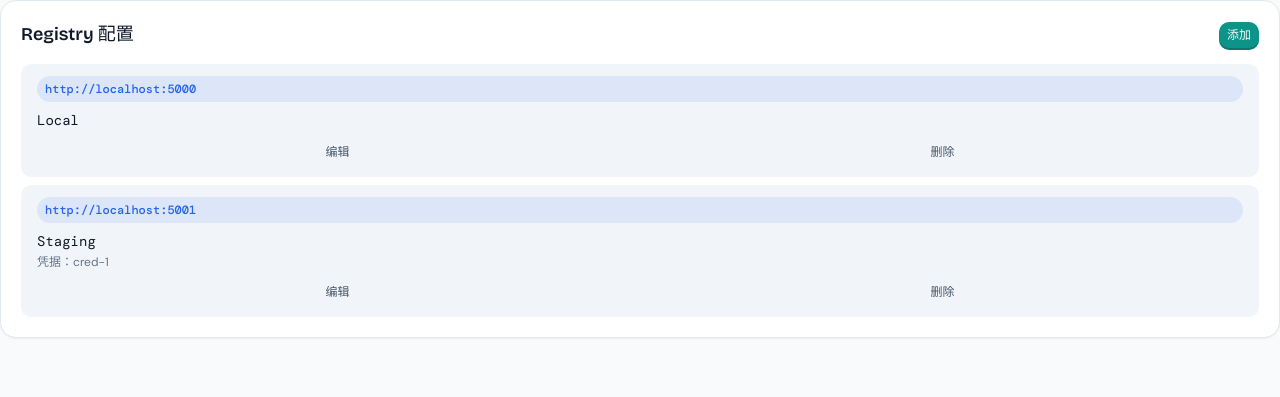
Test case: RegistryProfileManager › displays an error when deleting a profile fails
Click the 1st button with test id "rm-profile-delete-button" at (942, 152), box [642, 139, 1243, 165]
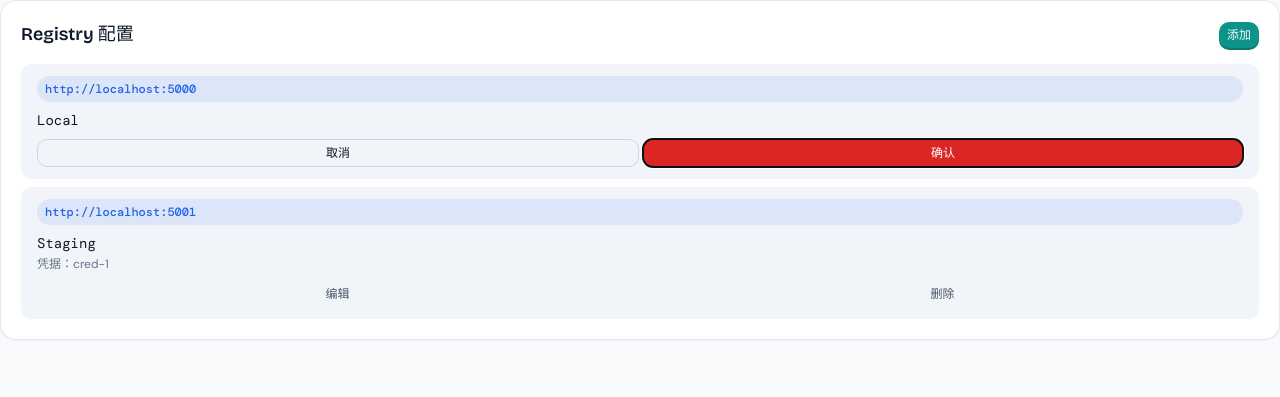
Click the button with test id "rm-profile-delete-confirm-button" at (943, 153), box [643, 139, 1243, 167]
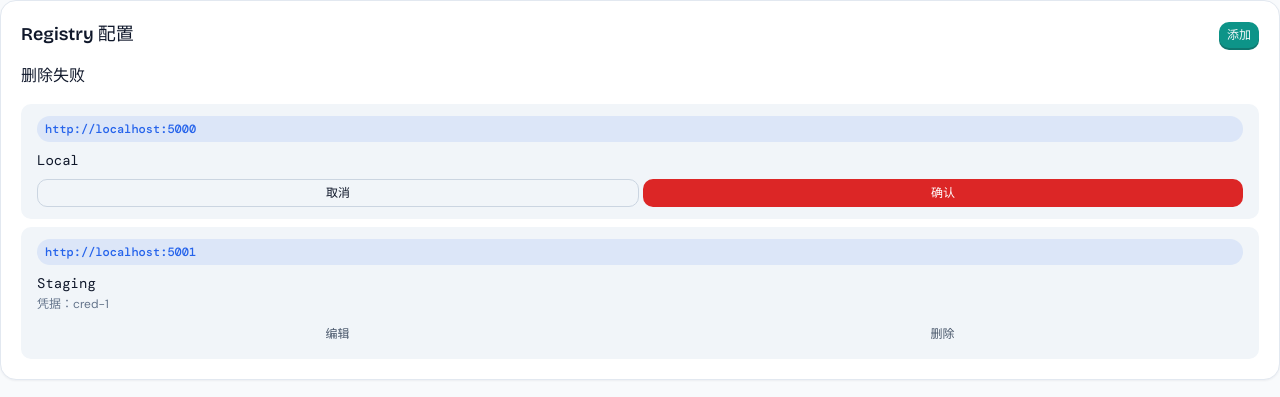
Now the message with test id "rm-profile-delete-error" reads "删除失败", box [21, 65, 85, 86]
